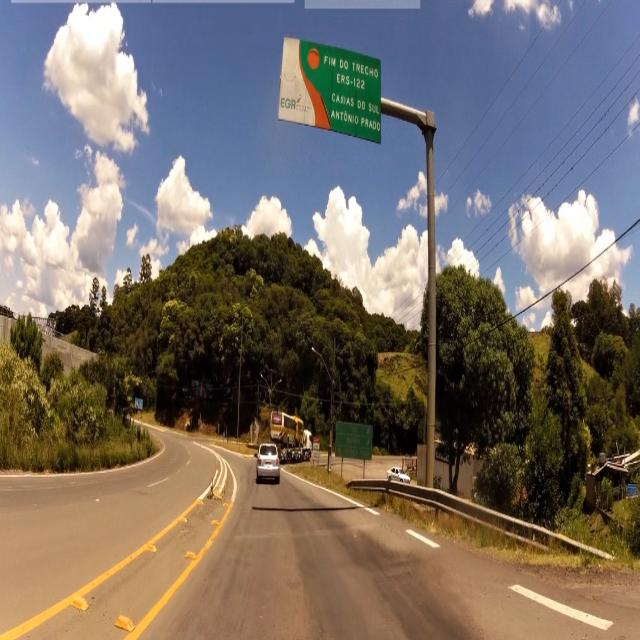I-4: (302, 42, 382, 140), (336, 422, 374, 459)
